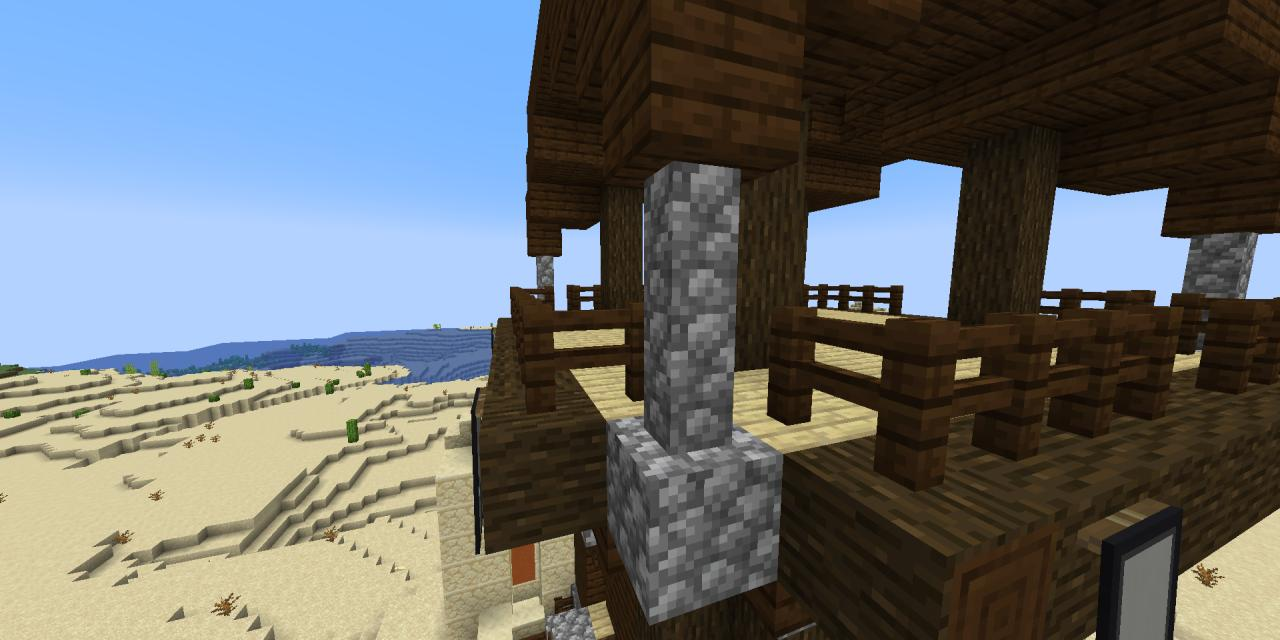pillager outpost: (457, 0, 1280, 640)
